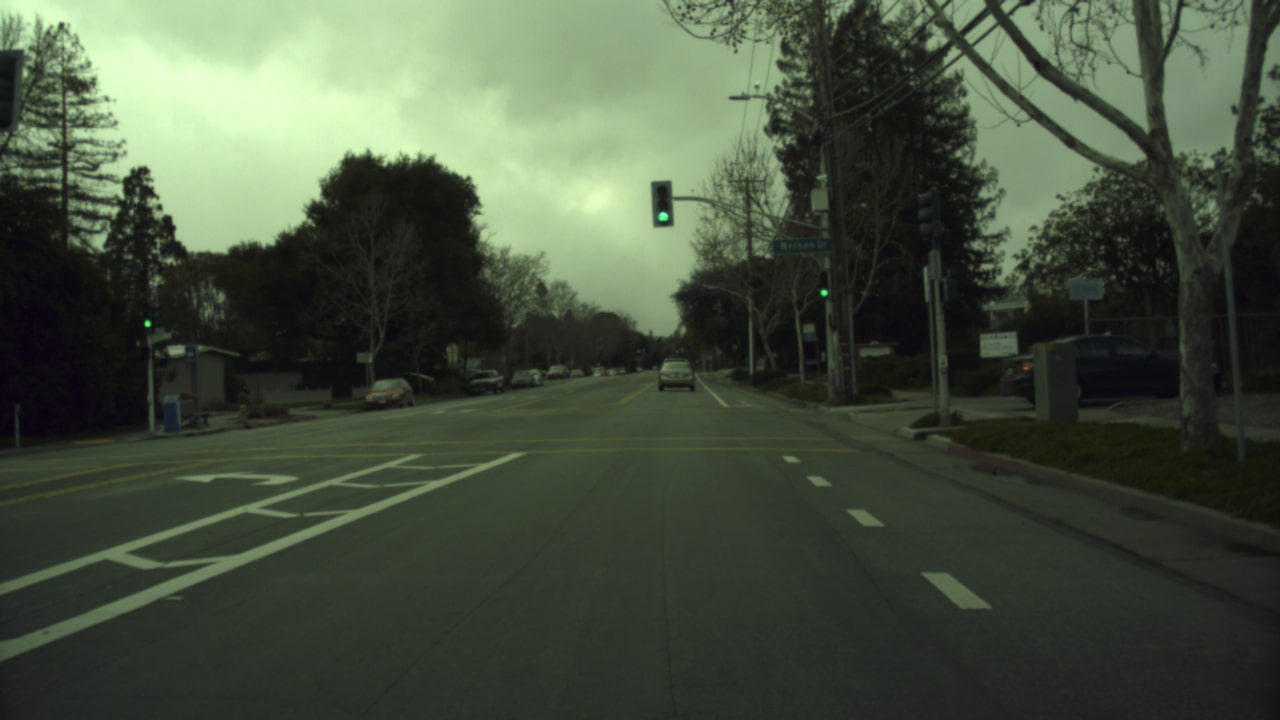signal: (651, 180, 675, 228), (140, 305, 157, 334), (816, 274, 830, 301)
